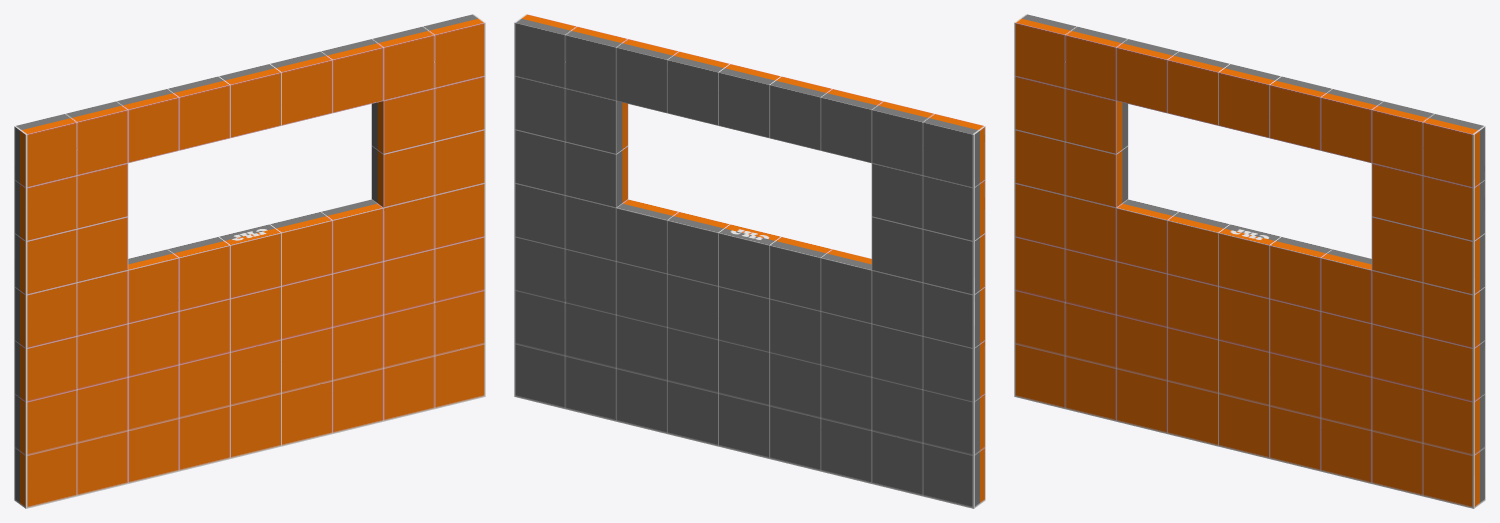
The model's file is M01WallWindowTypeD_1.FBX.
3 views of the same model, side by side, from view 1: azimuth 30°, elevation 25°; view 2: azimuth 150°, elevation 25°; view 3: azimuth 330°, elevation 25° (orthographic).
Parts seen in each view (by area): view 1: M01WallWindowTypeD_1; view 2: M01WallWindowTypeD_1; view 3: M01WallWindowTypeD_1.
Part boxes in pixels (x1,y1,x2,y2): M01WallWindowTypeD_1: (14,14,485,508); M01WallWindowTypeD_1: (514,14,985,508); M01WallWindowTypeD_1: (1014,14,1485,508).
Size of what is drawn, in the model's own units: 4.5 by 3.5 by 0.2.
